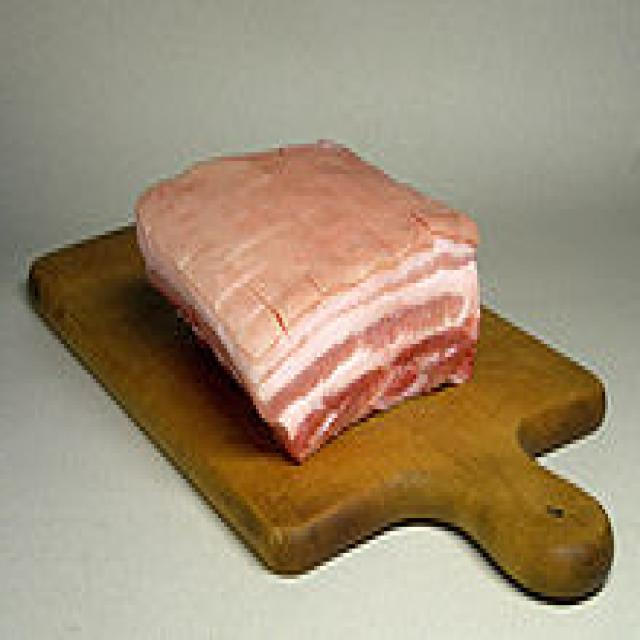Pork: (136, 142, 480, 461)
